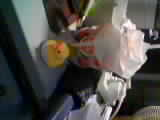duck: (40, 28, 77, 71)
